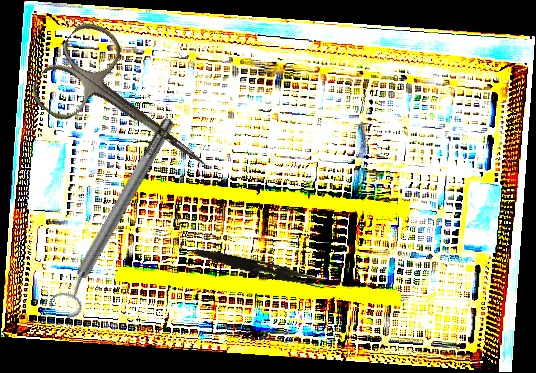Dressing Forceps: (192, 246, 327, 290)
Fixation Ring: (45, 111, 186, 323)
Iris Scissors: (25, 14, 234, 207)
